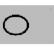no answer: (1, 12, 30, 37)
